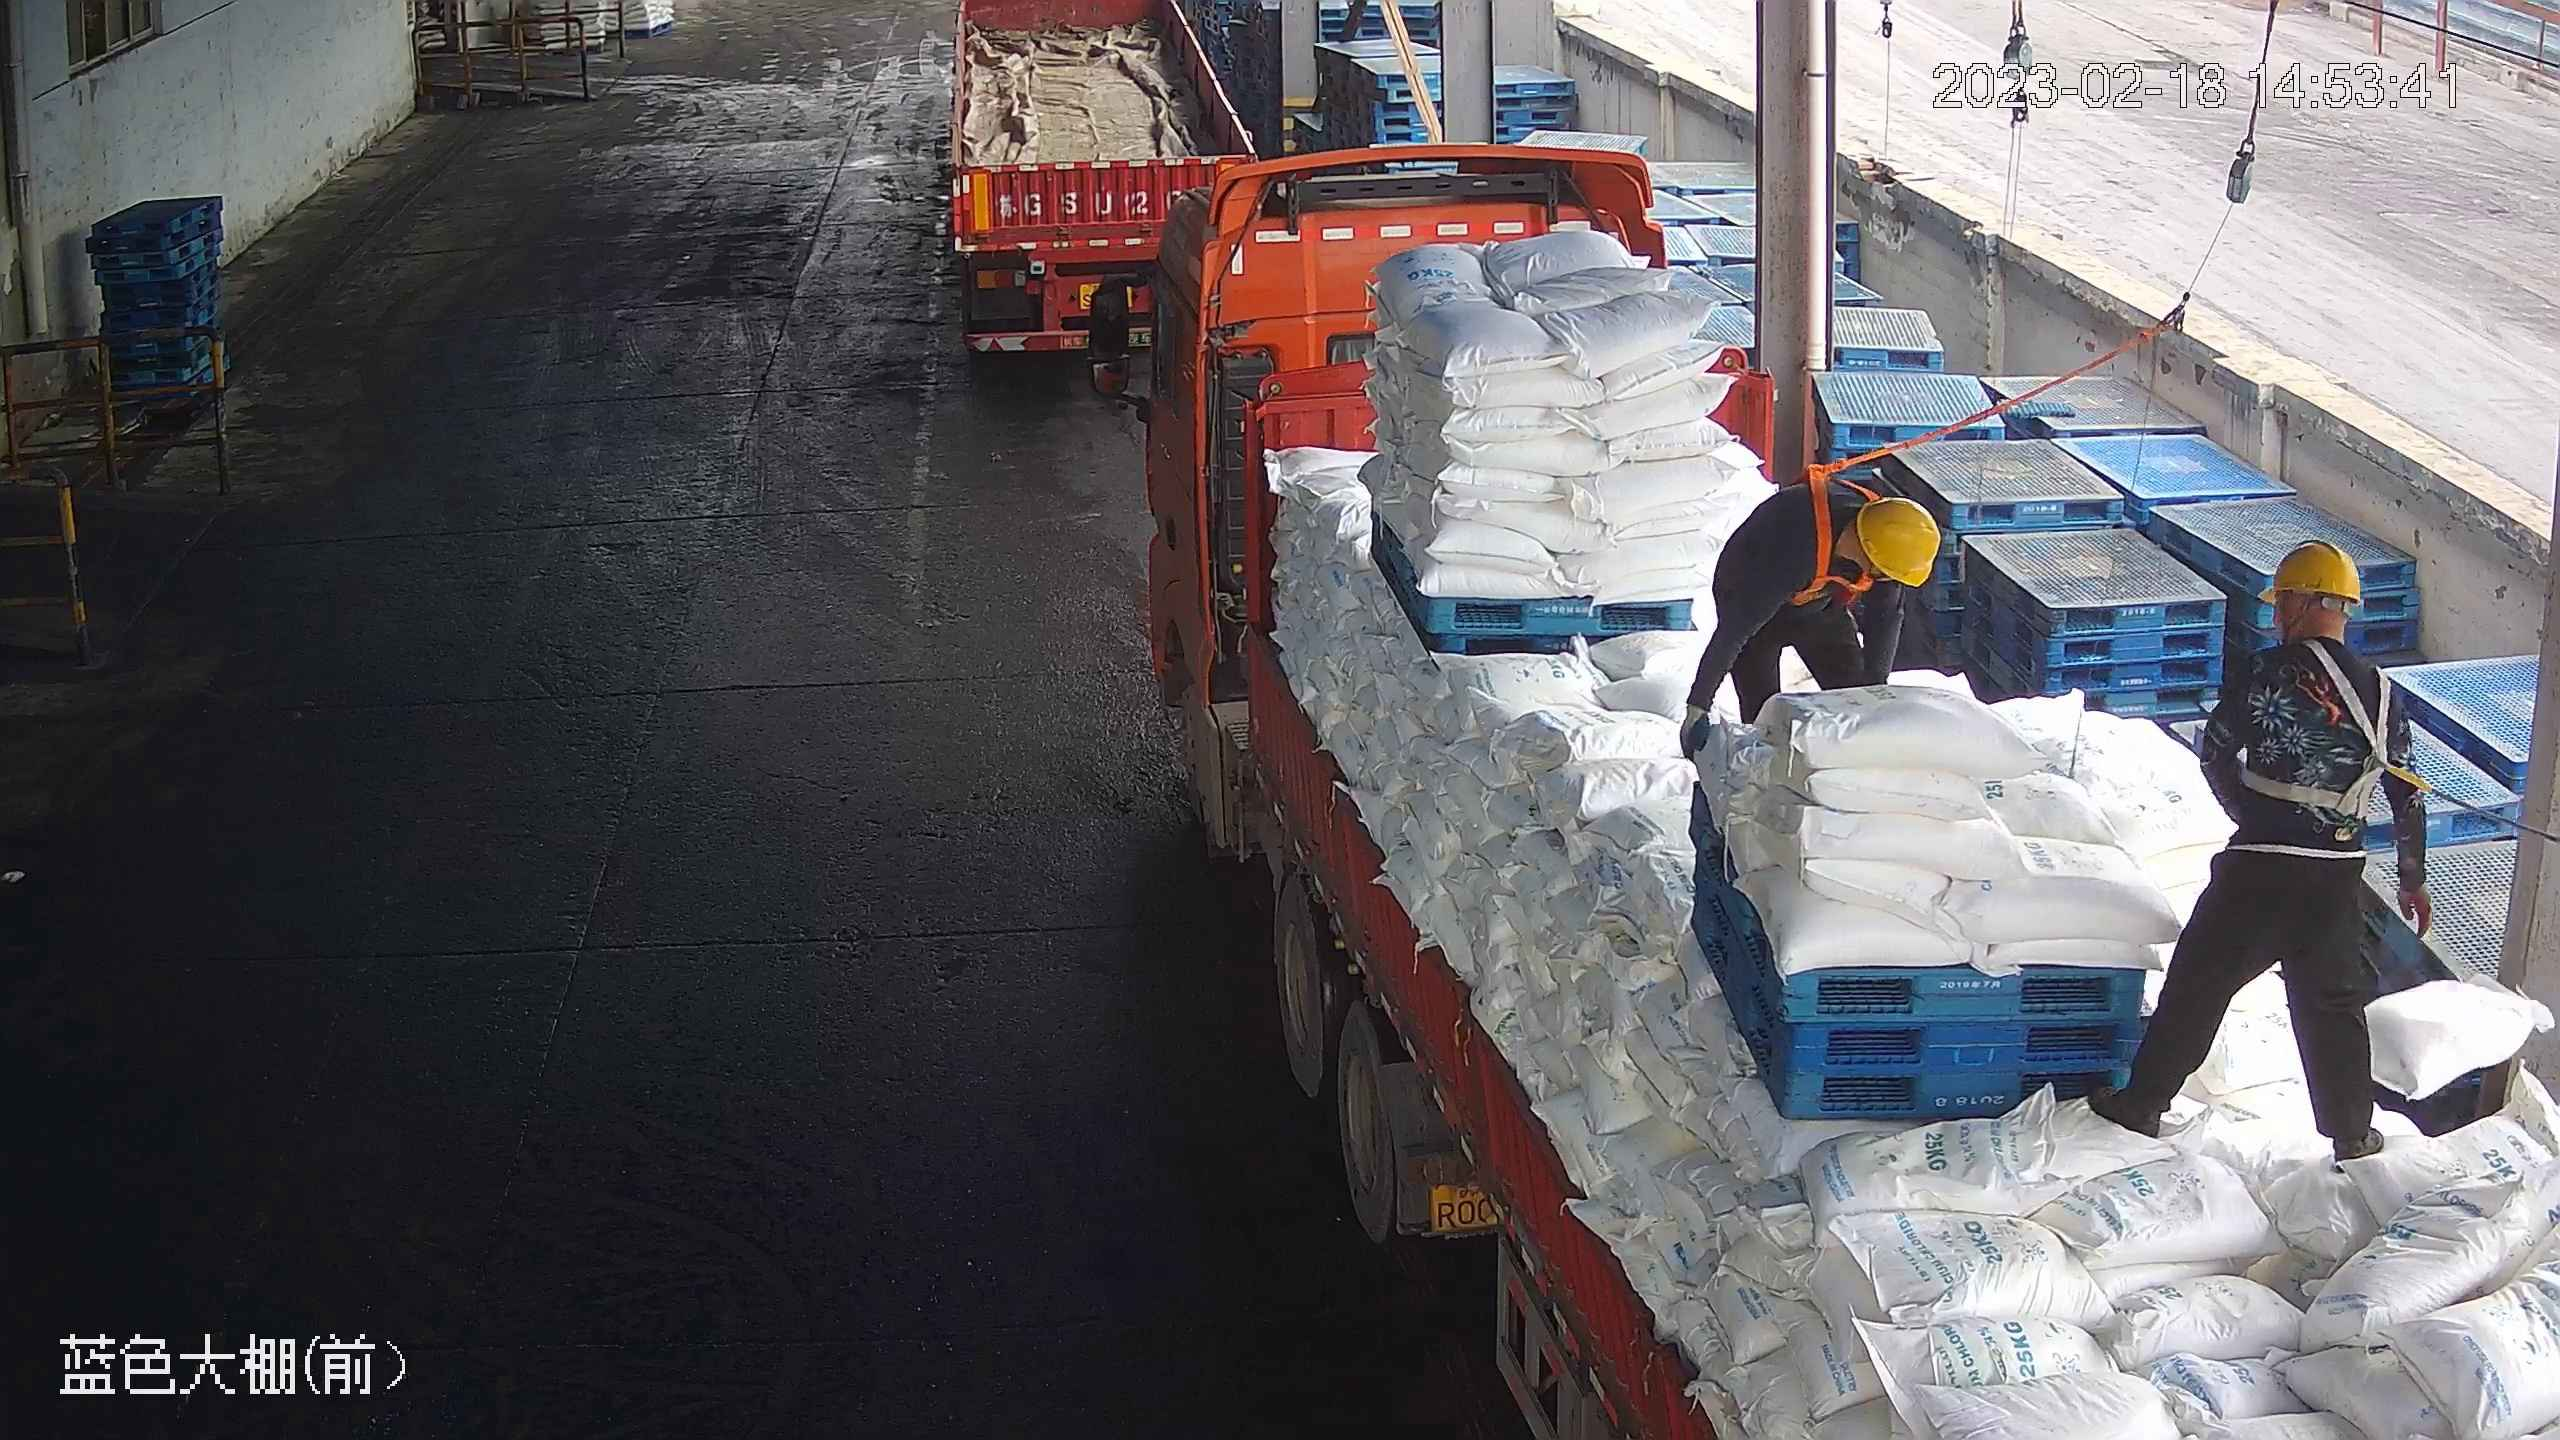belt: (2244, 630, 2403, 821), (1792, 465, 1863, 615)
head: (2224, 536, 2412, 720), (1783, 491, 1939, 605)
helmet: (1857, 495, 1939, 590), (2258, 536, 2362, 609)
people: (2086, 533, 2533, 1165), (1676, 476, 1941, 747)
truck: (1043, 157, 2552, 1435), (938, 1, 1264, 386)
